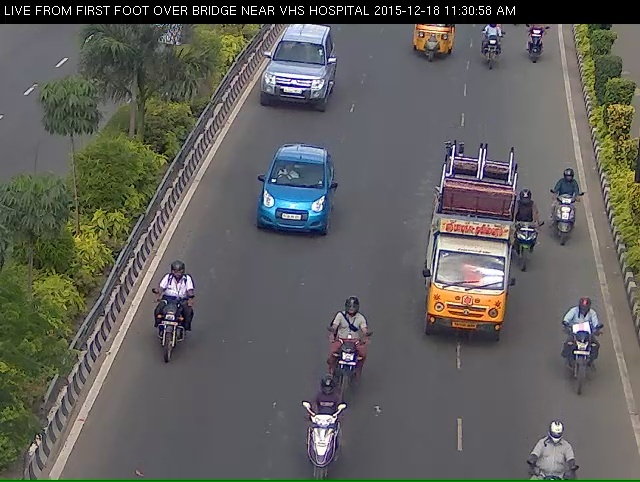Auto: (422, 150, 516, 363), (408, 28, 452, 73)
Car: (249, 138, 331, 248), (256, 27, 341, 113)
Person: (132, 261, 199, 390), (322, 320, 376, 418), (559, 319, 609, 410), (291, 406, 349, 477), (554, 175, 590, 253), (476, 26, 520, 83), (520, 204, 547, 282), (526, 16, 555, 76)
